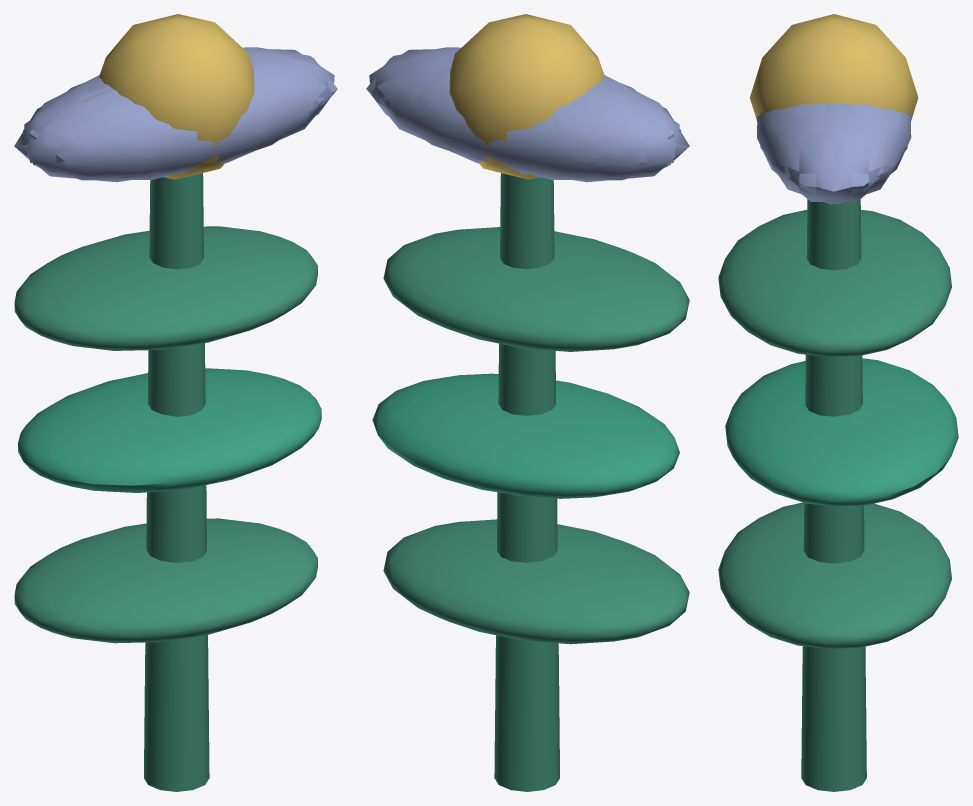
Rendered from impatiens-balsamina.glb.
3 views of the same model, side by side, from view 1: azimuth 30°, elevation 25°; view 2: azimuth 150°, elevation 25°; view 3: azimuth 270°, elevation 25° (orthographic).
Parts seen in each view (by area): view 1: leaf2, leaf0, leaf1, stem, center, petal6, petal2, petal1, petal5, petal7, petal0; view 2: leaf1, leaf2, leaf0, stem, center, petal3, petal7, petal8, petal4, petal2, petal0; view 3: leaf1, leaf2, leaf0, stem, center, petal0, petal5, petal4, petal1, petal8.
Boxes of the visible parts, box(x1,y1,x2,y2) form: leaf2: box(14, 226, 317, 350); leaf0: box(14, 518, 317, 643); leaf1: box(18, 368, 321, 492); stem: box(144, 173, 209, 791); center: box(99, 14, 254, 179); petal6: box(32, 89, 240, 180); petal2: box(24, 83, 183, 182); petal1: box(105, 67, 319, 178); petal5: box(171, 56, 337, 169); petal7: box(14, 77, 119, 172); petal0: box(247, 49, 334, 152); leaf1: box(372, 373, 679, 498); leaf2: box(383, 227, 689, 351); leaf0: box(383, 519, 689, 644); stem: box(494, 173, 559, 791); center: box(449, 14, 604, 179); petal3: box(463, 89, 671, 180); petal7: box(520, 83, 679, 182); petal8: box(384, 67, 598, 178); petal4: box(366, 56, 532, 169); petal2: box(584, 77, 689, 172); petal0: box(369, 49, 456, 152); leaf1: box(725, 358, 958, 506); leaf2: box(718, 209, 951, 356); leaf0: box(718, 502, 951, 648); stem: box(801, 199, 866, 791); center: box(749, 14, 918, 118); petal0: box(772, 103, 896, 201); petal5: box(760, 103, 846, 204); petal4: box(821, 103, 907, 204); petal1: box(757, 104, 809, 174); petal8: box(858, 104, 911, 175).
Size of the model in its own units: 0.1541 by 0.3564 by 0.1026.
